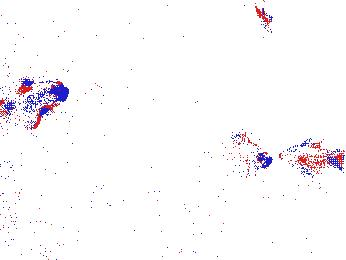redtail glassfish: (1, 79, 69, 130), (278, 143, 346, 178), (235, 135, 273, 172)
